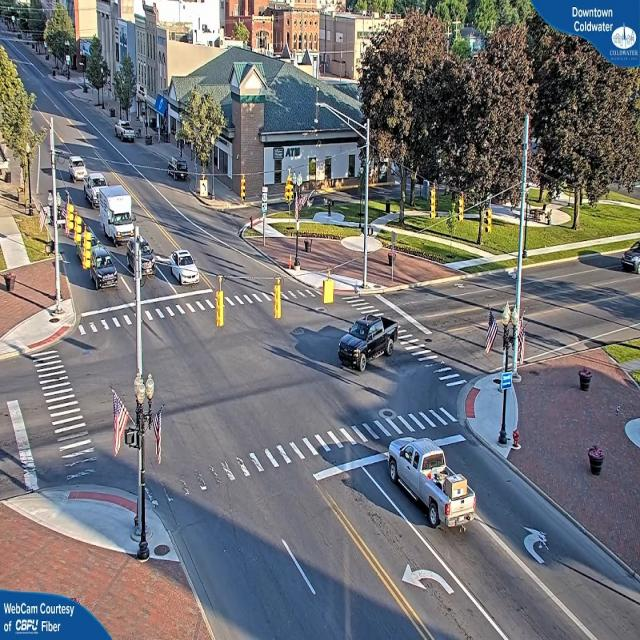car: (384, 437, 480, 533), (336, 314, 401, 372), (170, 248, 200, 288), (116, 120, 138, 144), (622, 243, 639, 274)
